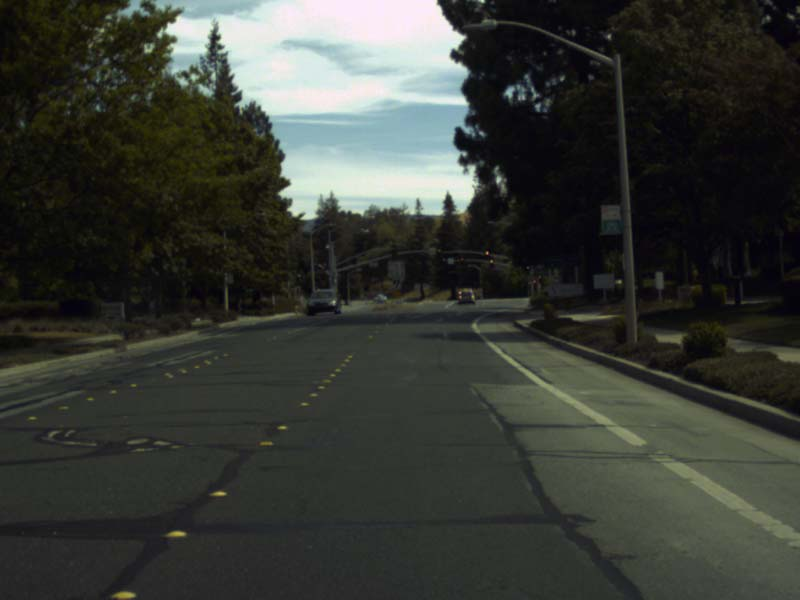Red: (525, 265, 529, 274), (489, 259, 493, 267), (437, 249, 441, 256), (442, 257, 445, 264), (485, 251, 488, 258), (460, 257, 463, 263), (538, 276, 541, 282), (533, 280, 535, 285), (538, 285, 541, 287)
